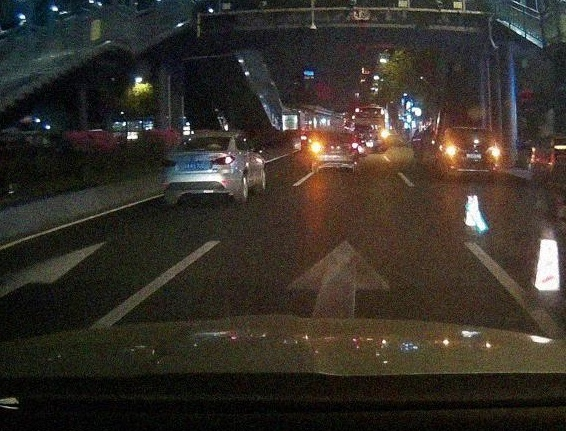L_light: (311, 142, 321, 152), (446, 145, 456, 155), (164, 160, 176, 167)
R_light: (213, 155, 236, 165), (490, 147, 500, 157), (350, 143, 357, 152)
T_light: (203, 136, 214, 140), (465, 129, 475, 132), (330, 134, 338, 137)
night-left: (311, 132, 358, 173)
night-no: (446, 127, 500, 182)
night-right: (163, 130, 236, 205)
